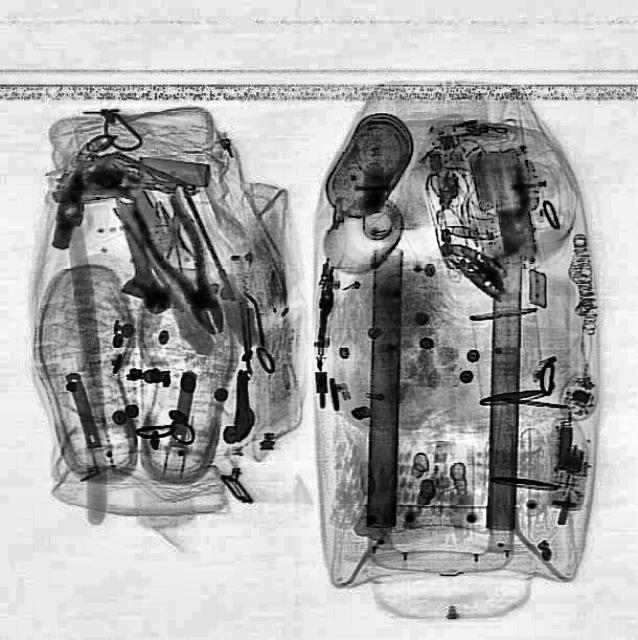Pliers: (126, 185, 244, 343)
Wrench: (100, 184, 178, 316)
